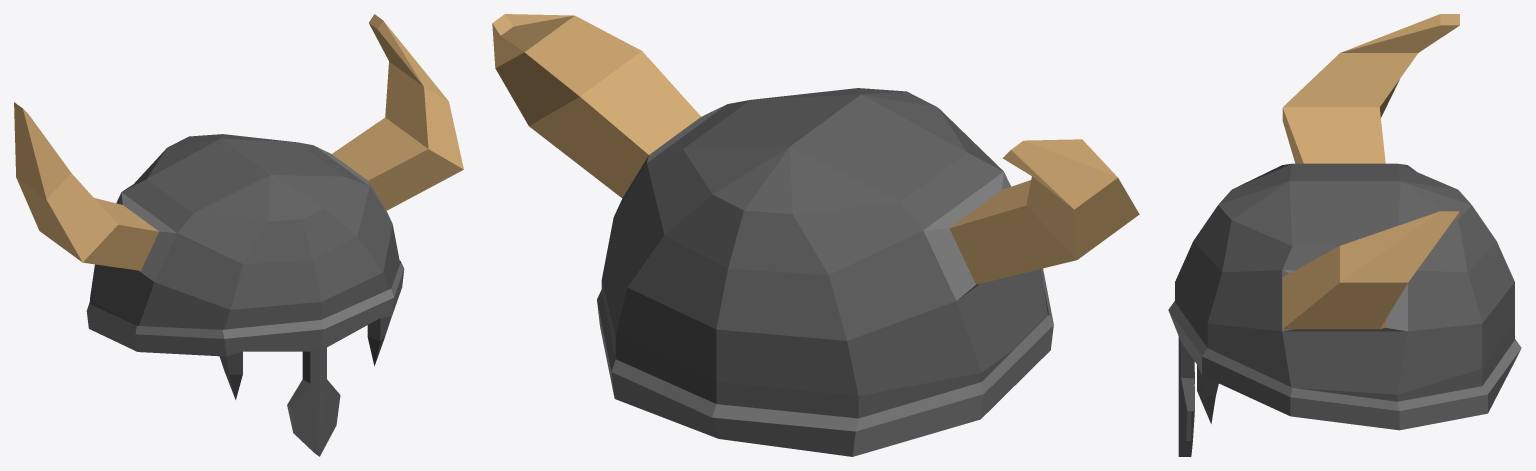
The model's file is VikingHelmet.fbx.
3 renders of one model, left to right at view 1: azimuth 30°, elevation 25°; view 2: azimuth 150°, elevation 25°; view 3: azimuth 270°, elevation 25°, orthographic. The views are drawn at different scales.
Parts seen in each view (by area): view 1: VikingArmorHelmet; view 2: VikingArmorHelmet; view 3: VikingArmorHelmet.
Boxes of the visible parts, bbox=[...] form: VikingArmorHelmet: bbox=[14, 14, 463, 456]; VikingArmorHelmet: bbox=[492, 14, 1139, 456]; VikingArmorHelmet: bbox=[1168, 14, 1521, 456].
Size of the model in its own units: 107 by 77.81 by 72.39.
1 material, 1 textured.
